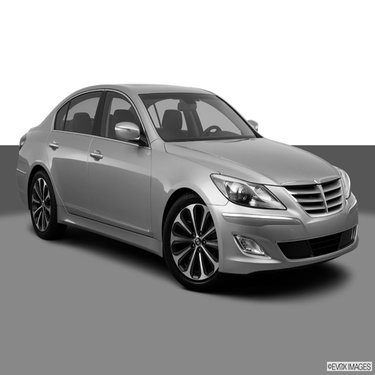car: (10, 82, 363, 283)
